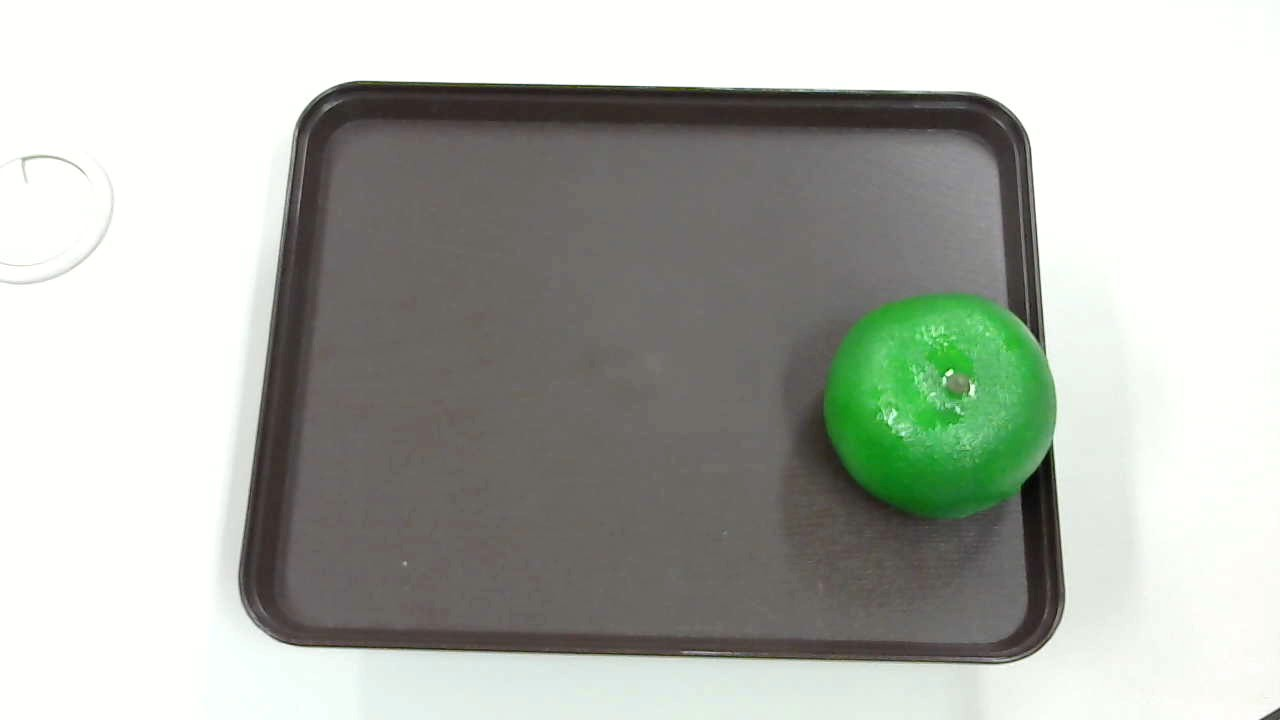green orange: (813, 295, 1069, 527)
